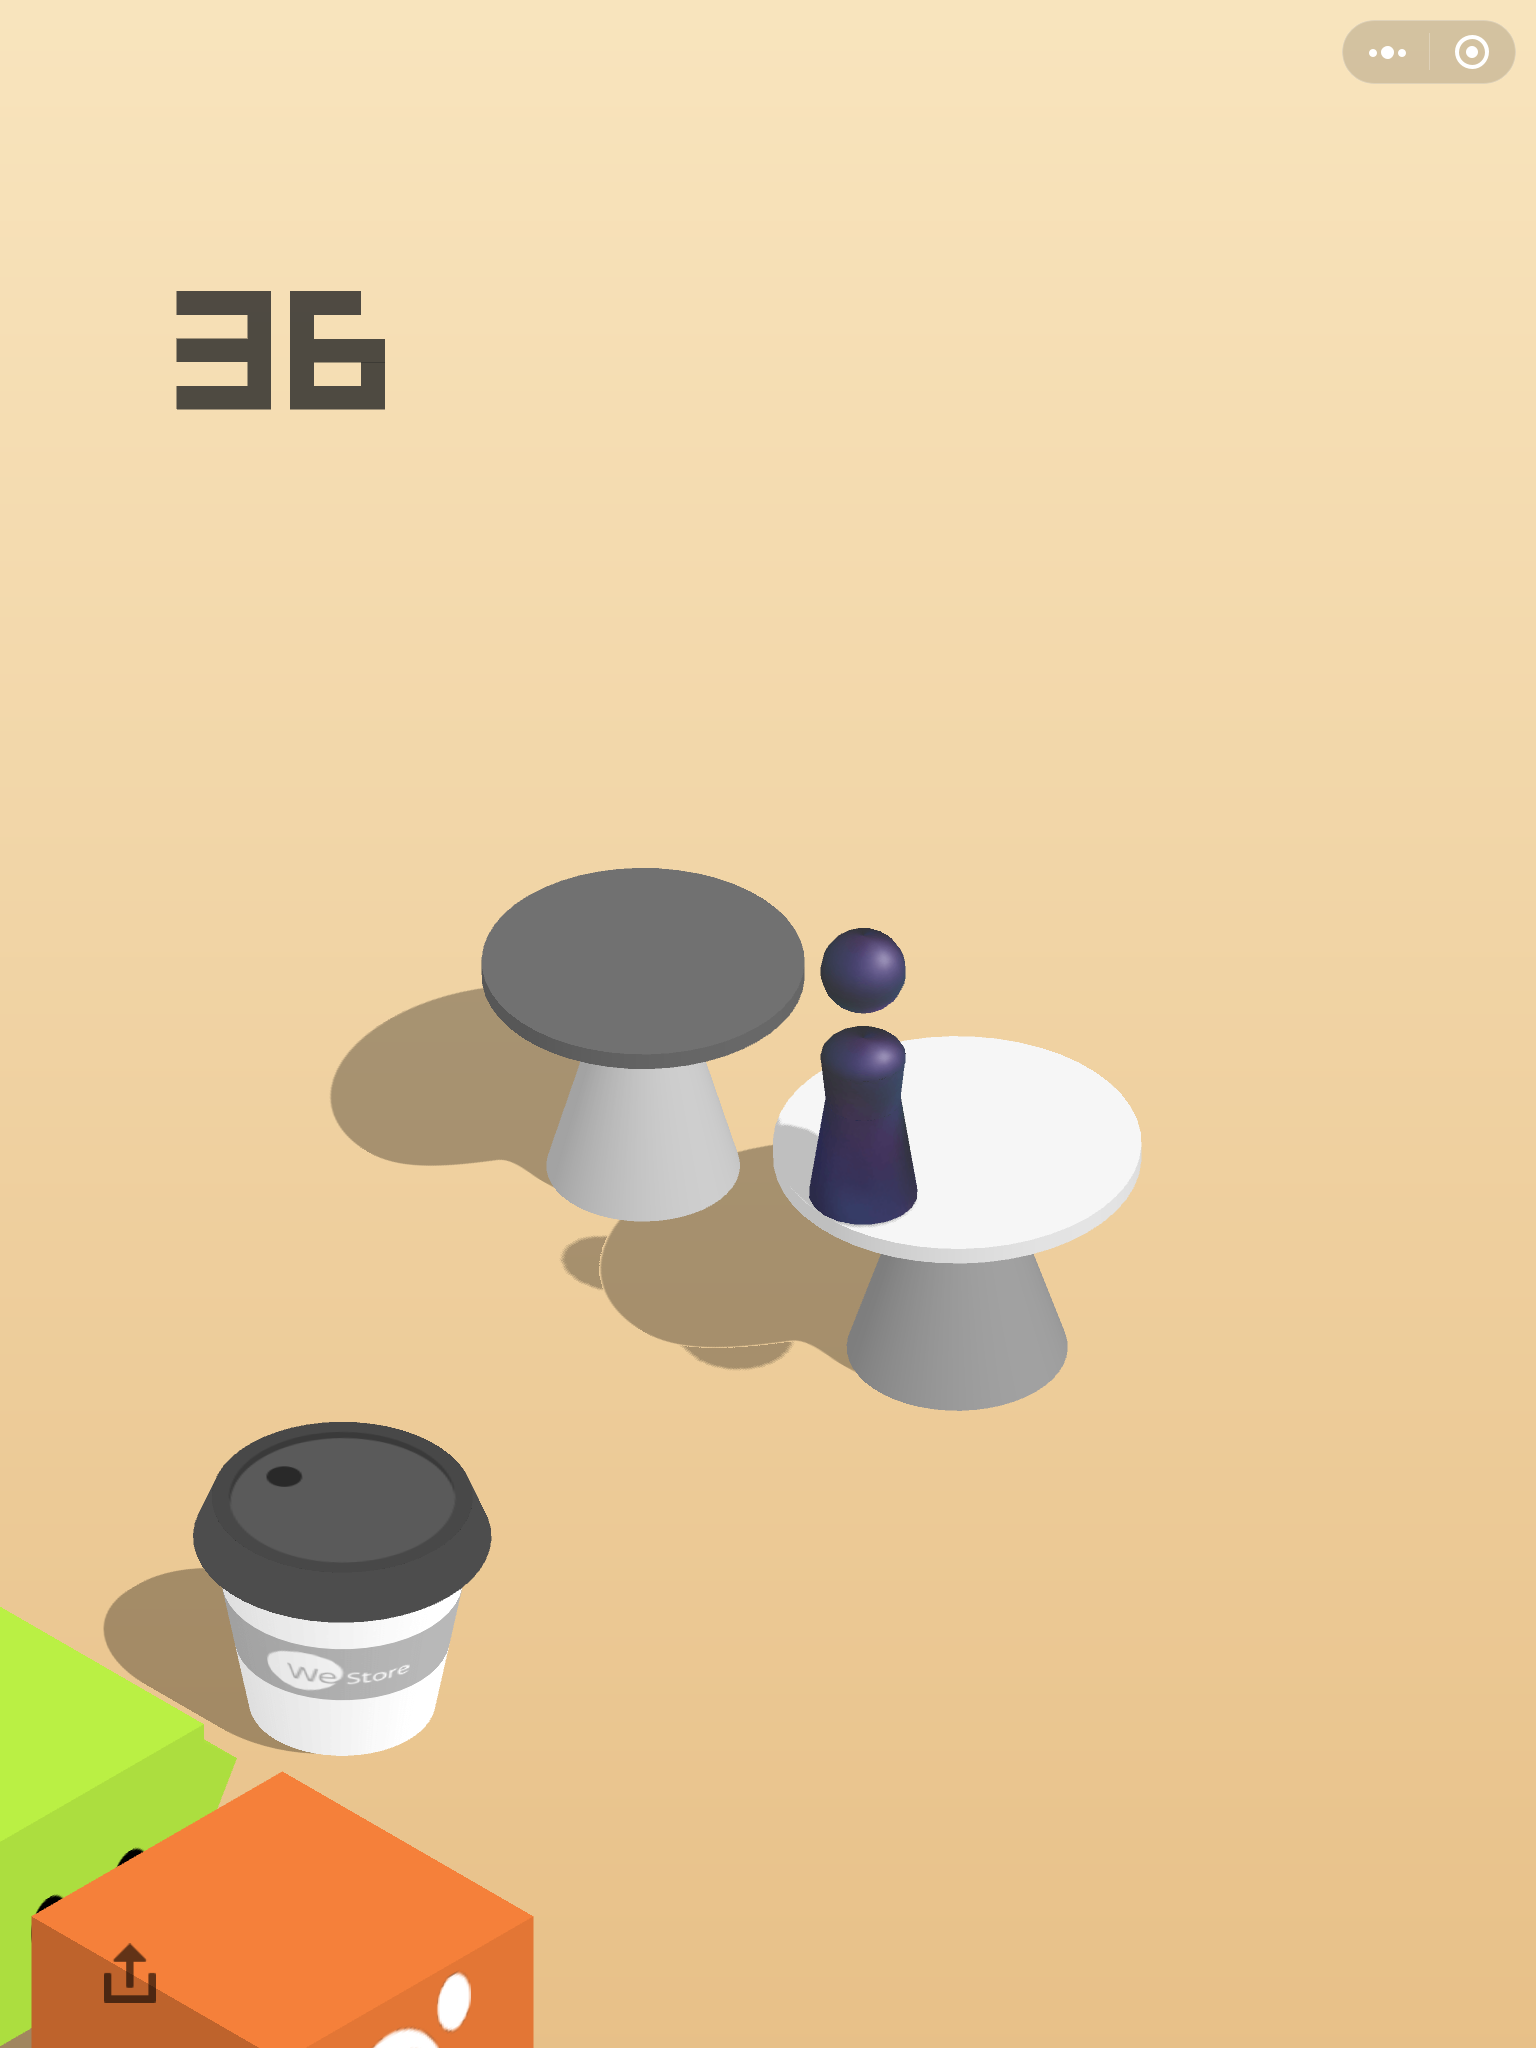c: (765, 1030, 1149, 1414), (478, 863, 812, 1232), (187, 1417, 499, 1767)
f: (23, 1767, 545, 2048), (2, 1592, 245, 2045)
r: (803, 922, 921, 1229)
